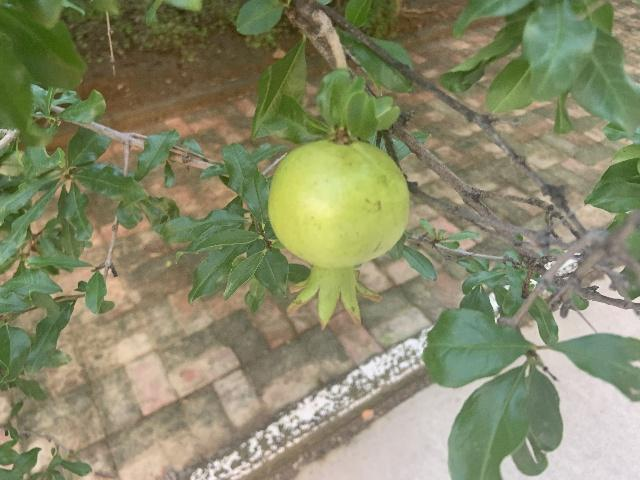mid-growth: (267, 139, 410, 330)
